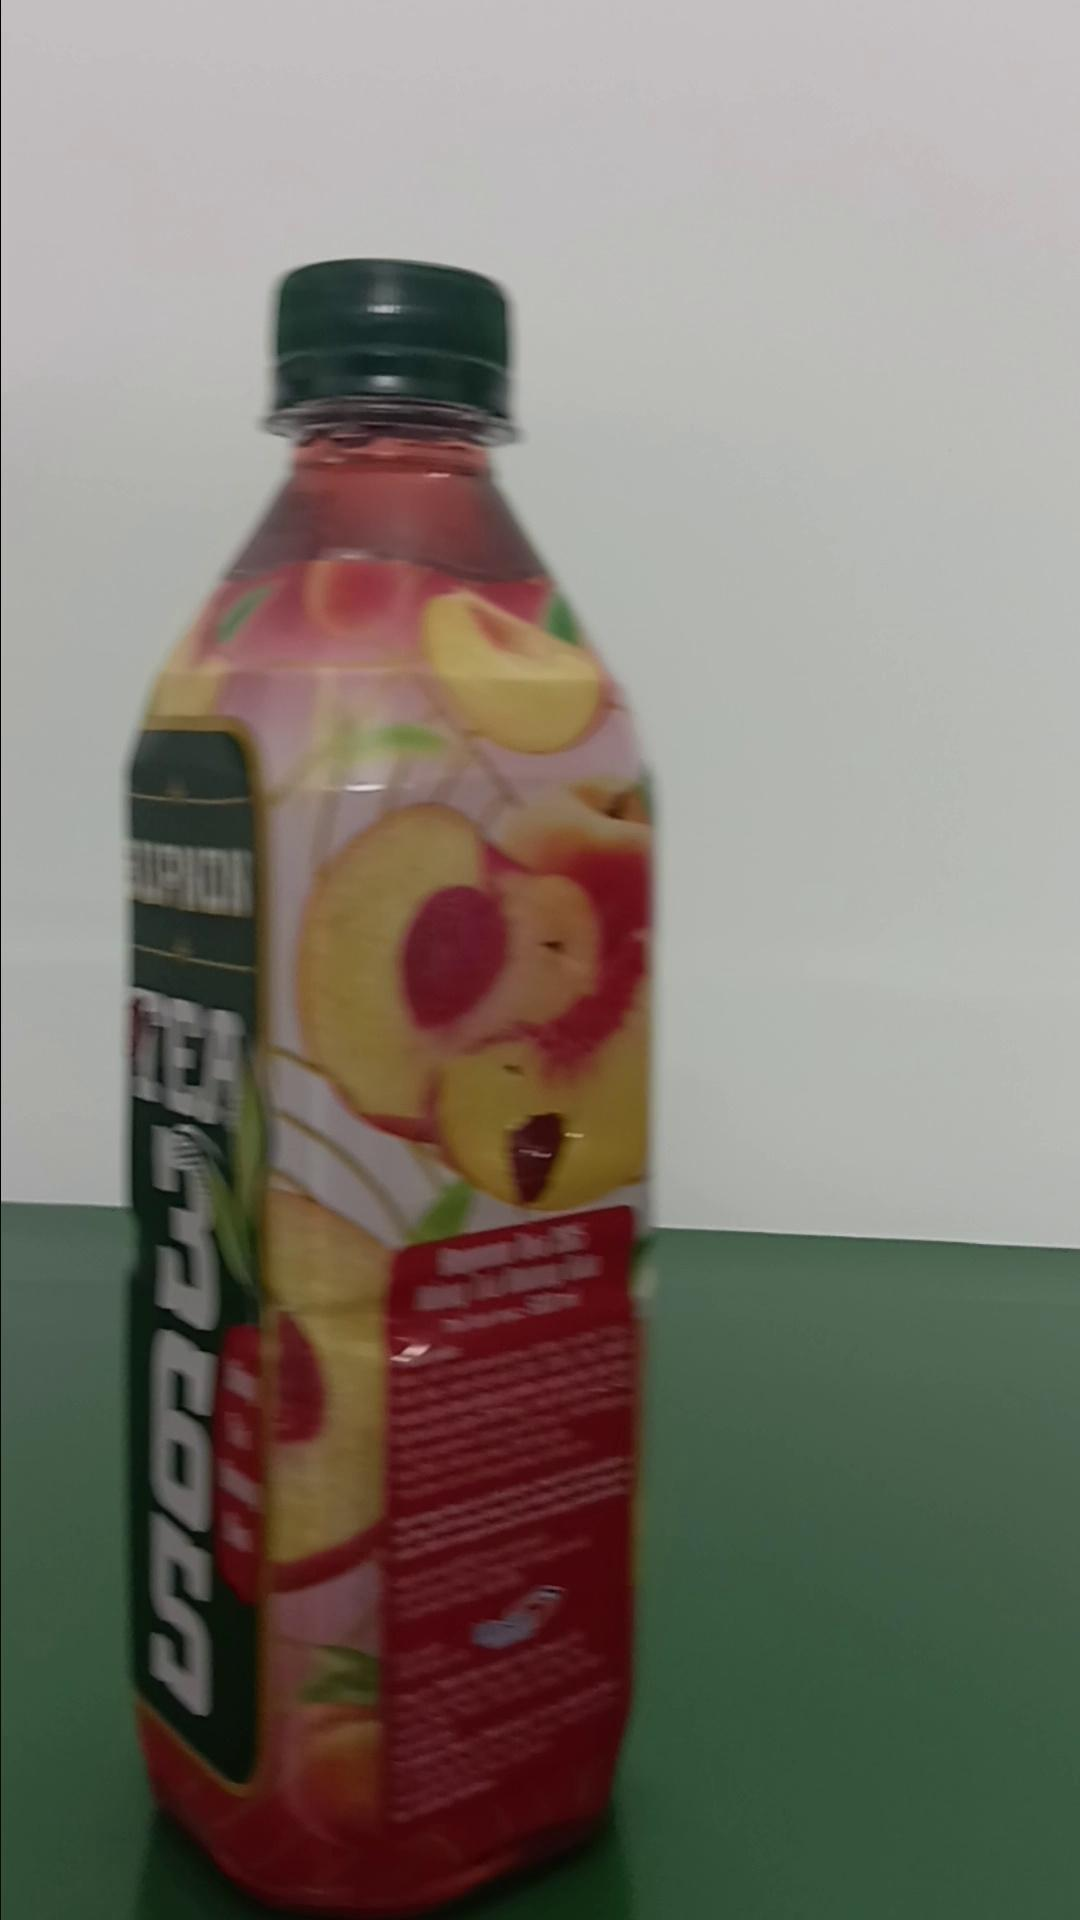loi rach va lap chai: (131, 253, 655, 1920)
